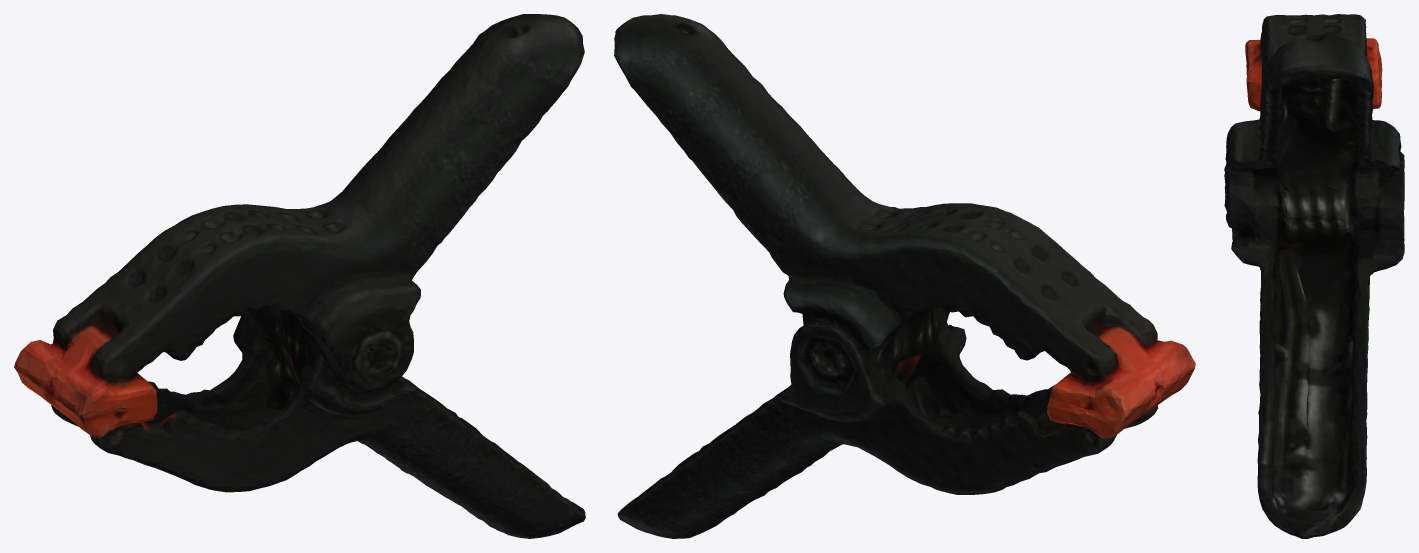
Rendered from medium_clamp.glb.
The picture shows the model from 3 angles, left to right: view 1: azimuth 30°, elevation 25°; view 2: azimuth 150°, elevation 25°; view 3: azimuth 270°, elevation 25°; orthographic projection. The views are drawn at different scales.
Visible parts, largest first — view 1: textured.obj; view 2: textured.obj; view 3: textured.obj.
Boxes of the visible parts, bbox=[...] form: textured.obj: bbox=[14, 14, 585, 538]; textured.obj: bbox=[614, 14, 1195, 538]; textured.obj: bbox=[1224, 14, 1404, 538].
Size of the model in its own units: 0.0846 by 0.0772 by 0.026.
Materials: 1 (1 with a texture image).
